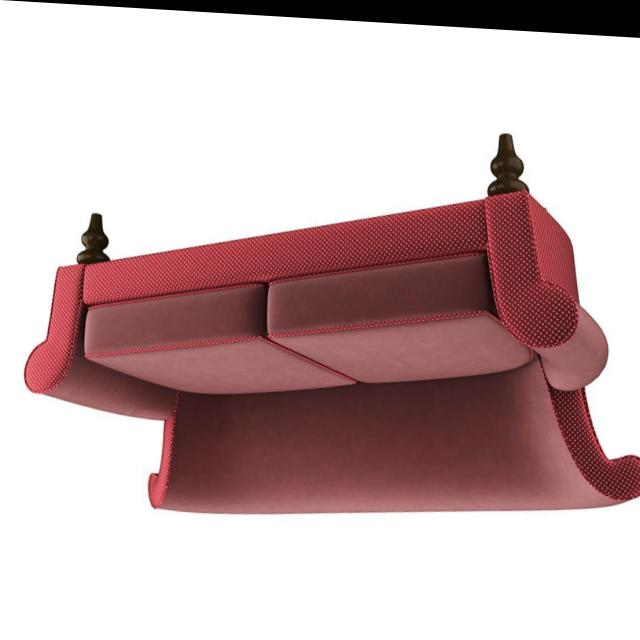Sofa: (23, 103, 640, 533)
